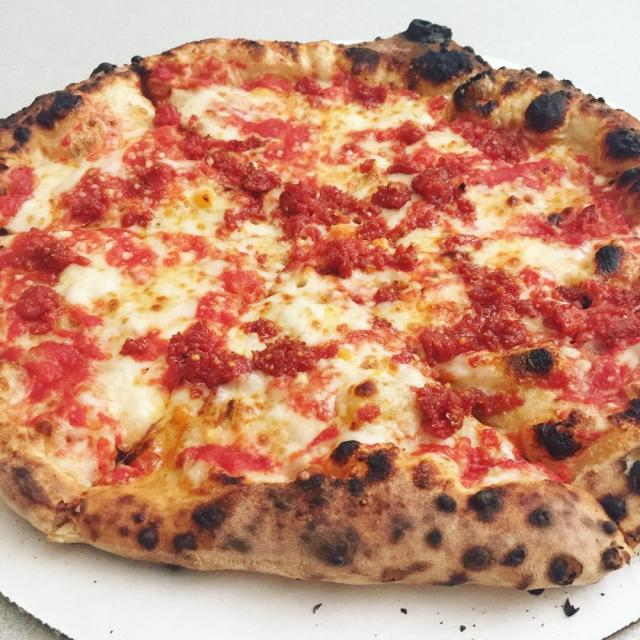pizza: (0, 20, 640, 594)
